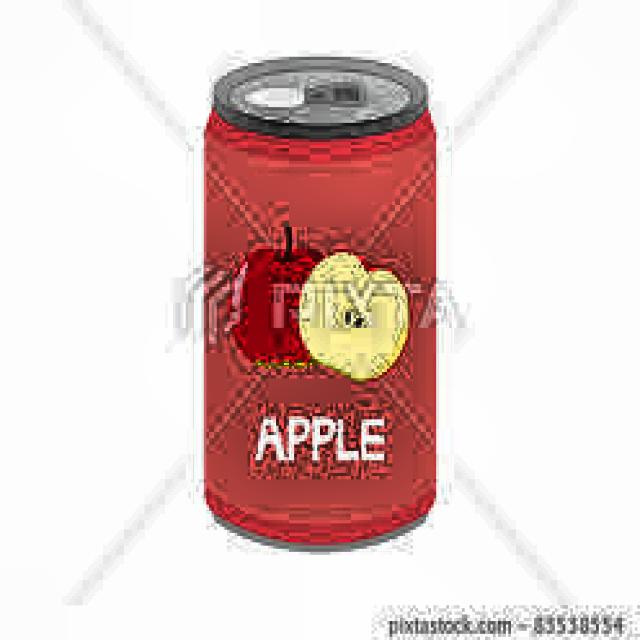can: (196, 53, 444, 561)
